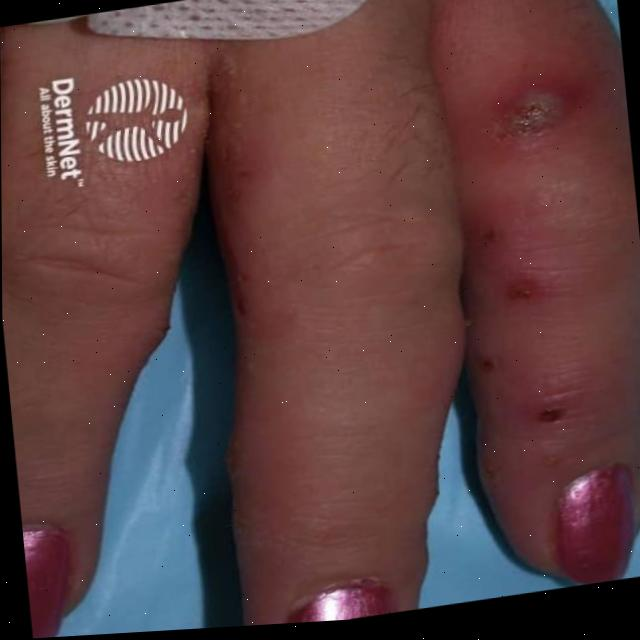Eczema: (464, 203, 561, 439), (465, 55, 593, 187)
